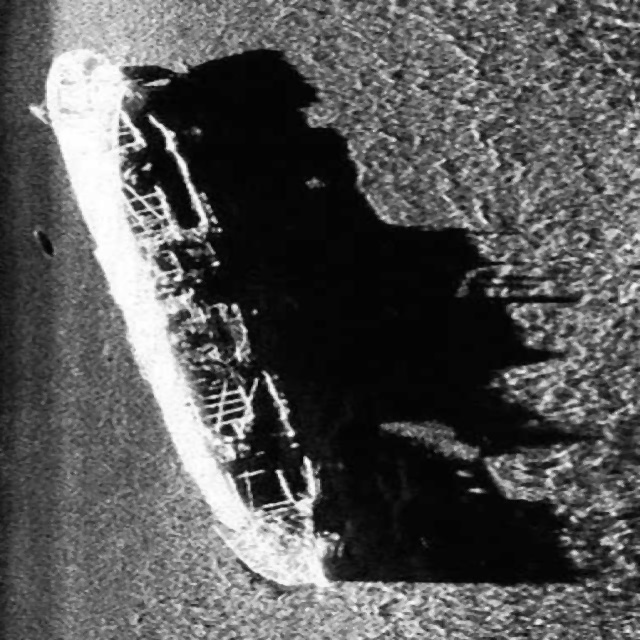Ship: (30, 43, 399, 593)
